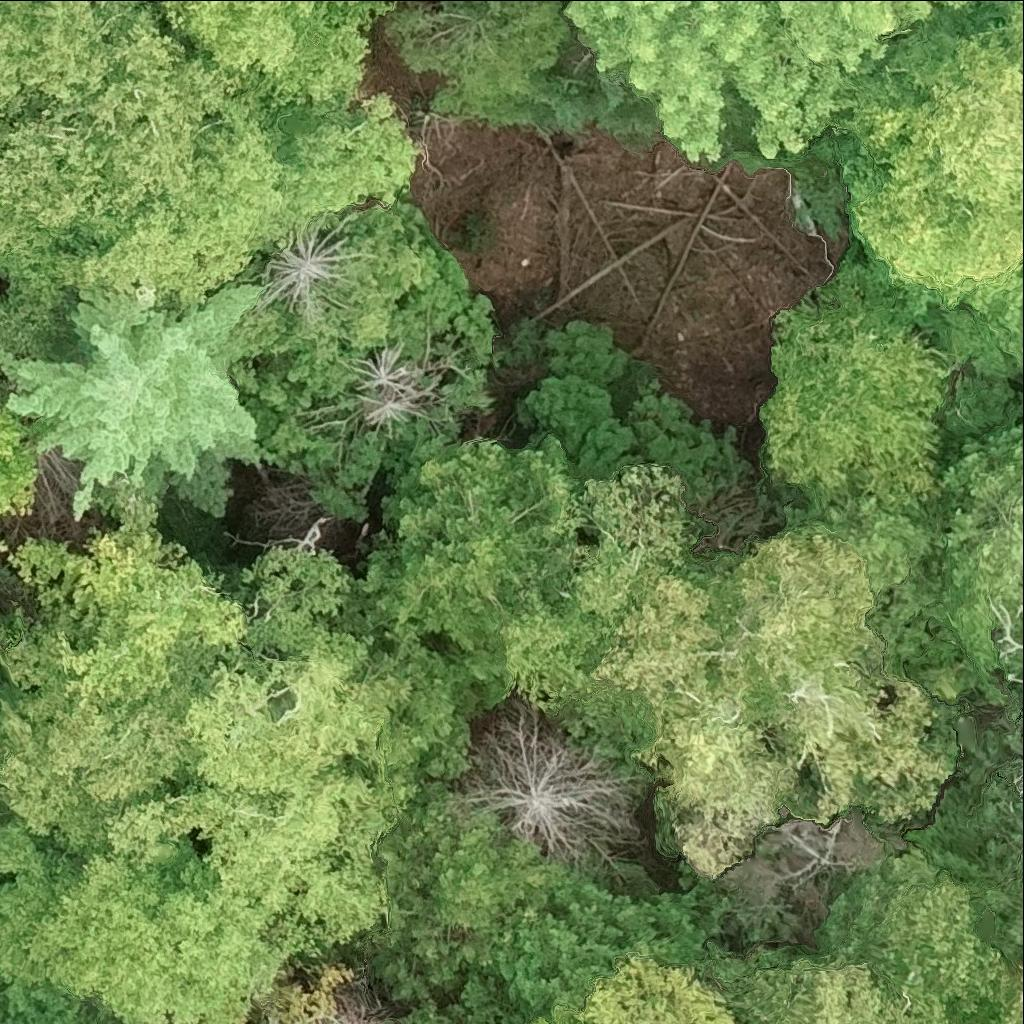crown: (103, 550, 418, 944), (0, 0, 340, 353), (642, 534, 958, 878), (233, 192, 495, 510), (501, 463, 749, 758), (0, 281, 275, 518), (0, 818, 314, 1023), (836, 0, 1023, 314), (570, 0, 931, 157), (10, 505, 267, 714), (0, 593, 204, 847), (369, 437, 578, 675), (750, 853, 999, 1023), (760, 311, 948, 517), (220, 199, 416, 394), (321, 572, 486, 788), (387, 799, 569, 971), (494, 882, 725, 1014), (154, 0, 391, 121), (464, 704, 638, 859), (389, 0, 593, 131), (946, 427, 1023, 706), (259, 91, 423, 212), (542, 953, 739, 1023), (732, 819, 883, 906), (0, 362, 52, 522), (257, 966, 390, 1023), (590, 62, 668, 148), (0, 978, 127, 1023), (961, 960, 1023, 1023), (983, 868, 1023, 963), (981, 287, 1023, 337), (1007, 621, 1023, 649), (0, 871, 22, 883), (1016, 772, 1023, 790), (1020, 607, 1023, 613), (954, 0, 968, 1)
